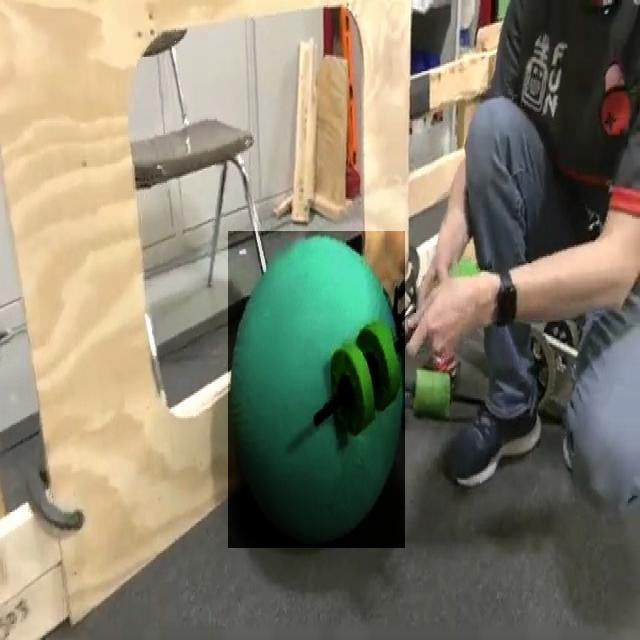Algae: (228, 231, 405, 548)
